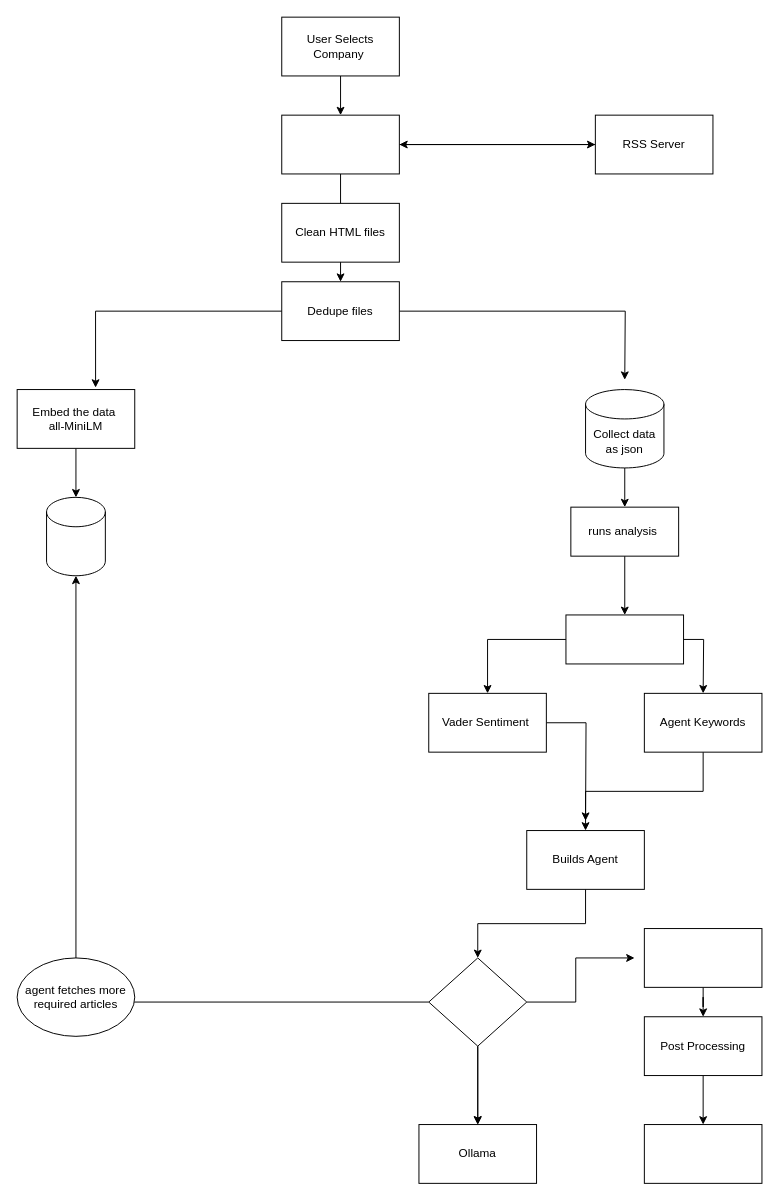
Image size: 779x1201. Some labels were removed from this diagram. Each missing label, with the centre of its shape:
"ChromaDB Vevtor DB" goes at (75,536).
"Collect all documents" goes at (340,144).
"Crew AI" goes at (477,1001).
"diversify" goes at (624,639).
"Json Output" goes at (702,957).
"Streamlit Dashboard" goes at (702,1153).
